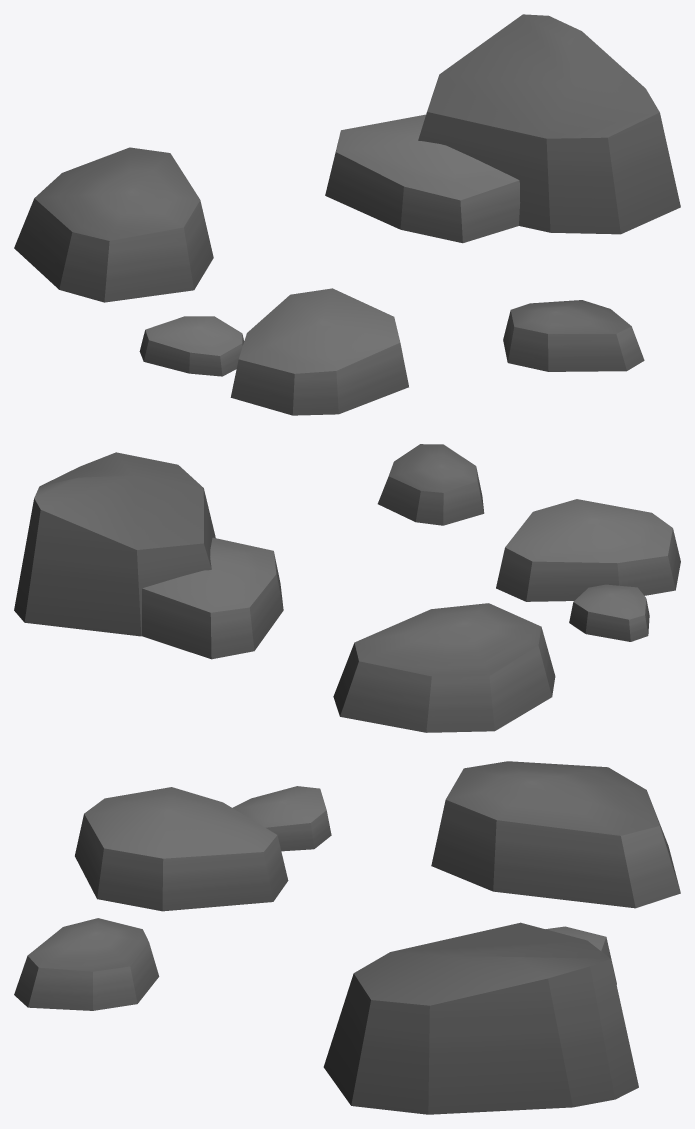
File: Rocks_A_1.fbx
3 renders of one model, top to bottom at view 1: azimuth 30°, elevation 25°; view 2: azimuth 150°, elevation 25°; view 3: azimuth 270°, elevation 25°, orthographic. The views are drawn at different scales.
Visible parts, largest first — view 1: Rocks_A_1; view 2: Rocks_A_1; view 3: Rocks_A_1.
Boxes of the visible parts, x1=… form: Rocks_A_1: x1=14, y1=14, x2=680, y2=415; Rocks_A_1: x1=14, y1=444, x2=680, y2=732; Rocks_A_1: x1=14, y1=761, x2=680, y2=1114.
Bounding box in the file's own units: 196 × 38.34 × 179.
